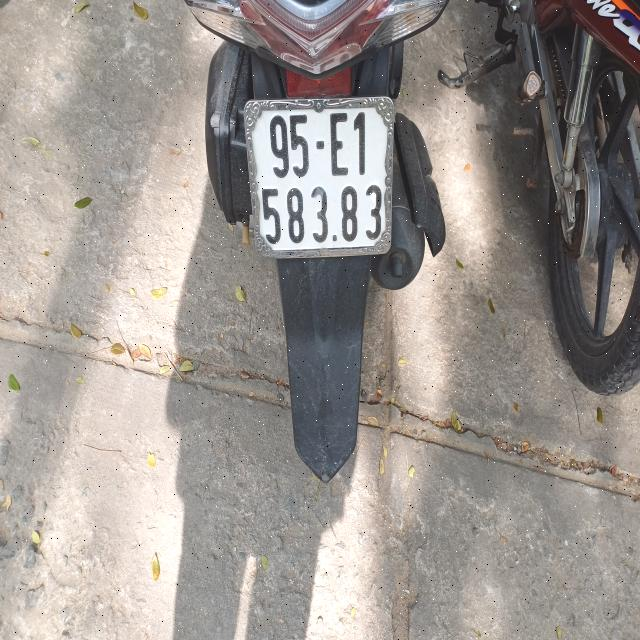3: (310, 184, 329, 242), (364, 181, 381, 240)
5: (288, 113, 311, 177), (259, 184, 282, 243)
8: (338, 183, 358, 241), (287, 186, 304, 246)
9: (270, 114, 290, 182)
E: (330, 114, 350, 174), (353, 112, 368, 172)
